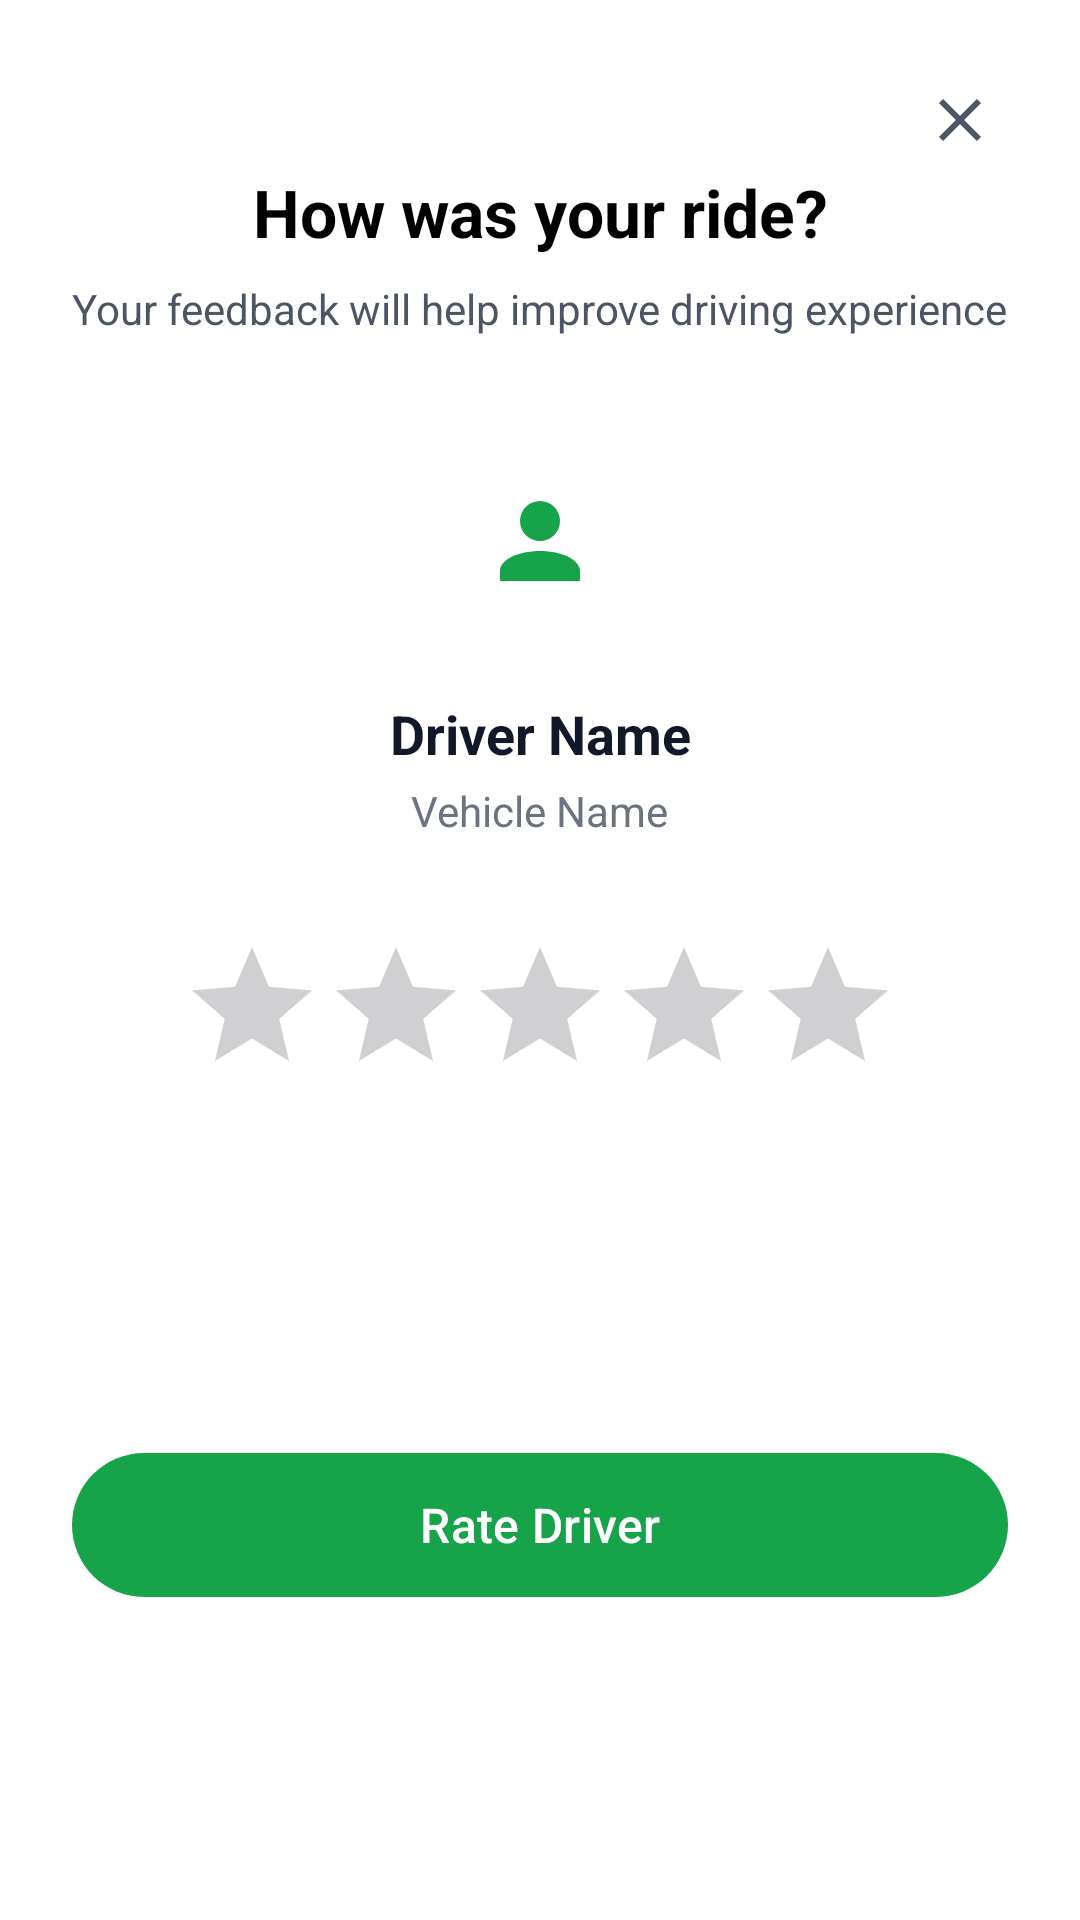

Screen size 1080px×1920px. Icon name, then its box in pixels as [left=x1, top=y1, right=x2, bottom=y2]:
close: [left=939, top=99, right=981, bottom=141]
person: [left=500, top=501, right=580, bottom=581]
